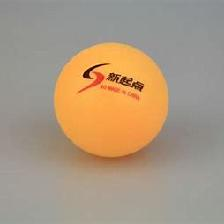YellowBall: (52, 41, 169, 156)
